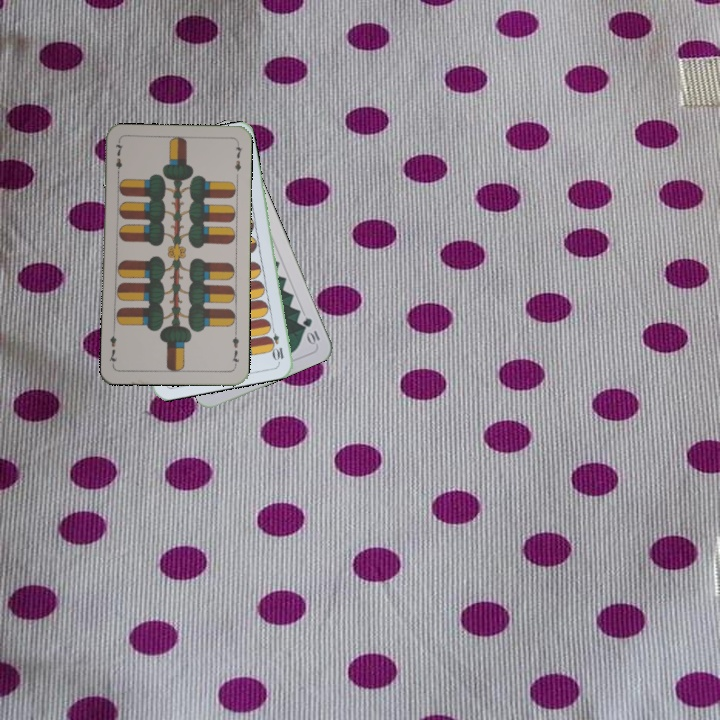E10: (266, 322, 286, 363)
E7: (228, 329, 242, 369), (112, 139, 125, 179)
G10: (299, 313, 322, 347)
